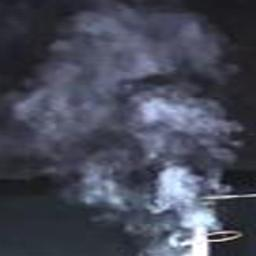smoke: (8, 5, 243, 255)
